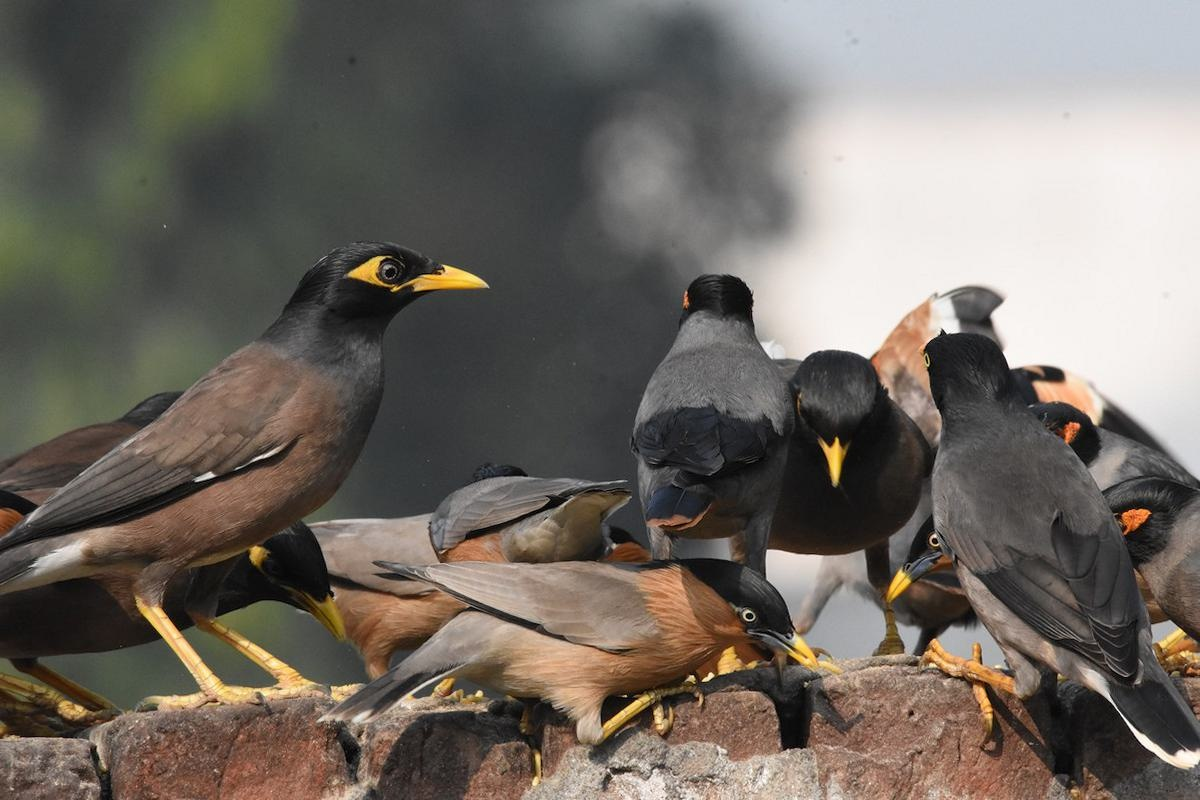myna: (1, 204, 517, 647), (337, 573, 797, 724)
